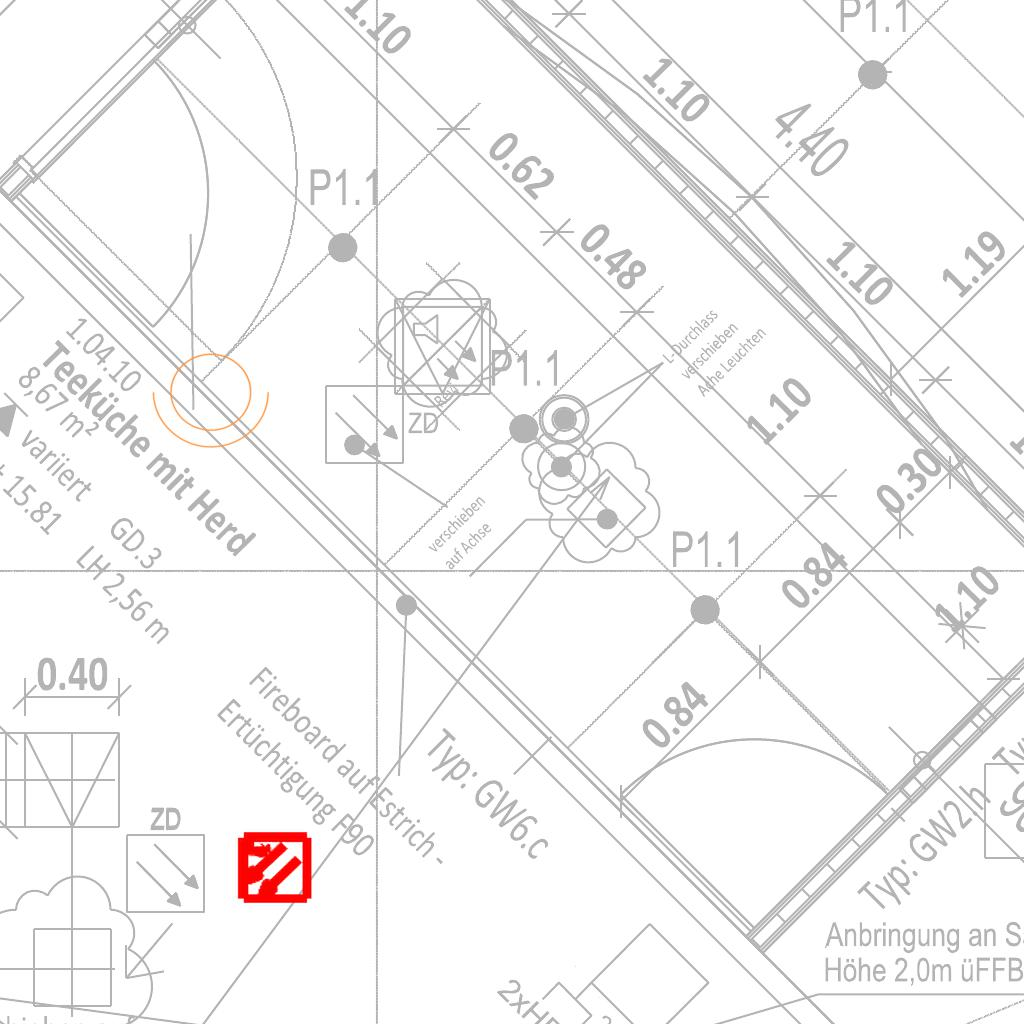OT_Multisensormelder_(Kombination_RMO_WMD): (216, 811, 329, 924)
Scheinwerfer_fuer_Alarmbeleuchtung: (148, 341, 280, 453)
